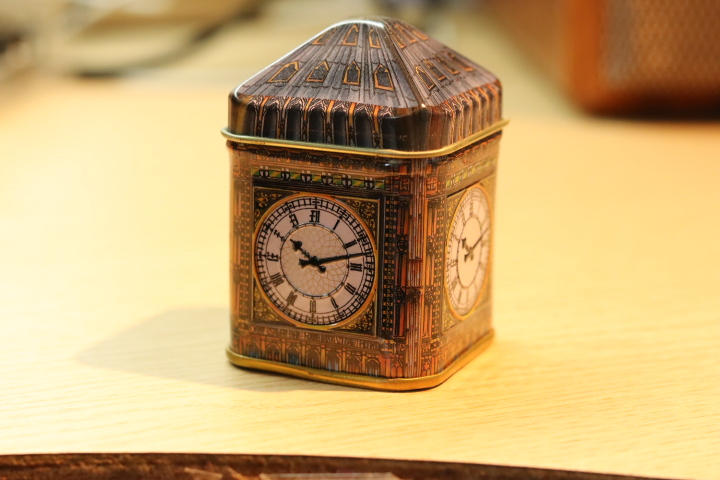Big Ben: (216, 14, 518, 405)
